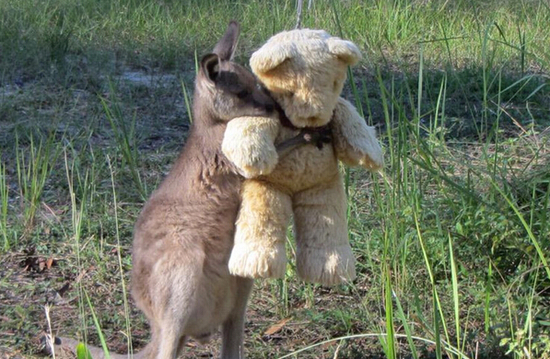kangaroo: (50, 21, 340, 357)
